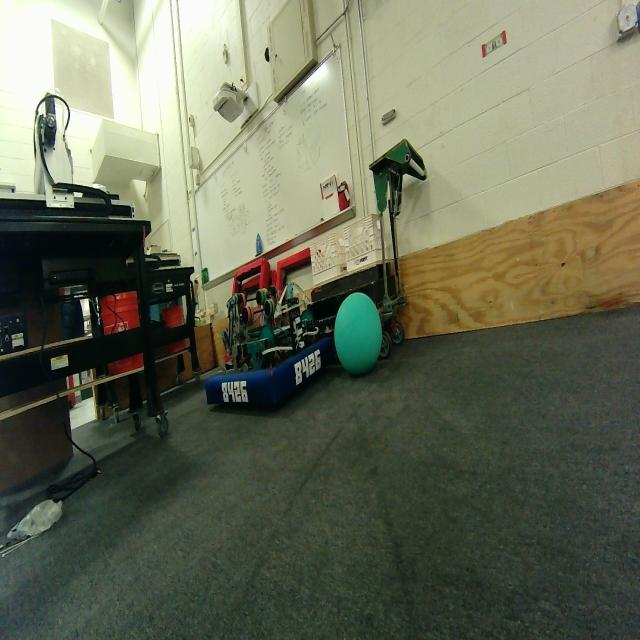algae: (334, 293, 384, 375)
